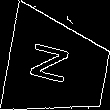N_E: (33, 42, 82, 92)
